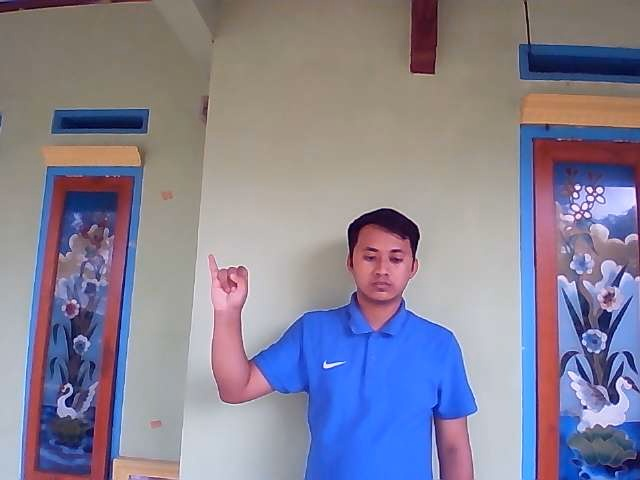I: (207, 251, 250, 312)
